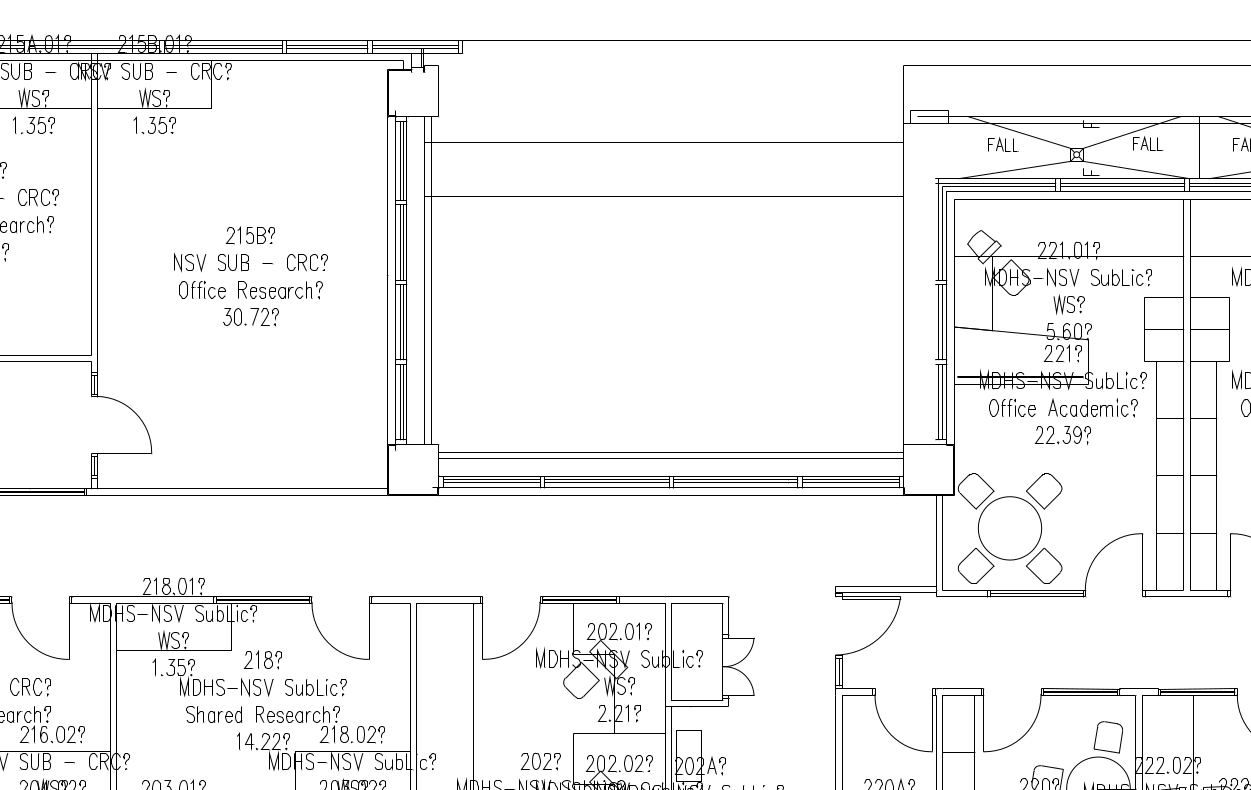door: (8, 601, 74, 666), (478, 601, 544, 666), (308, 602, 374, 667), (837, 595, 903, 660), (868, 691, 934, 756), (976, 691, 1042, 756), (1078, 530, 1144, 595), (95, 391, 154, 463)
